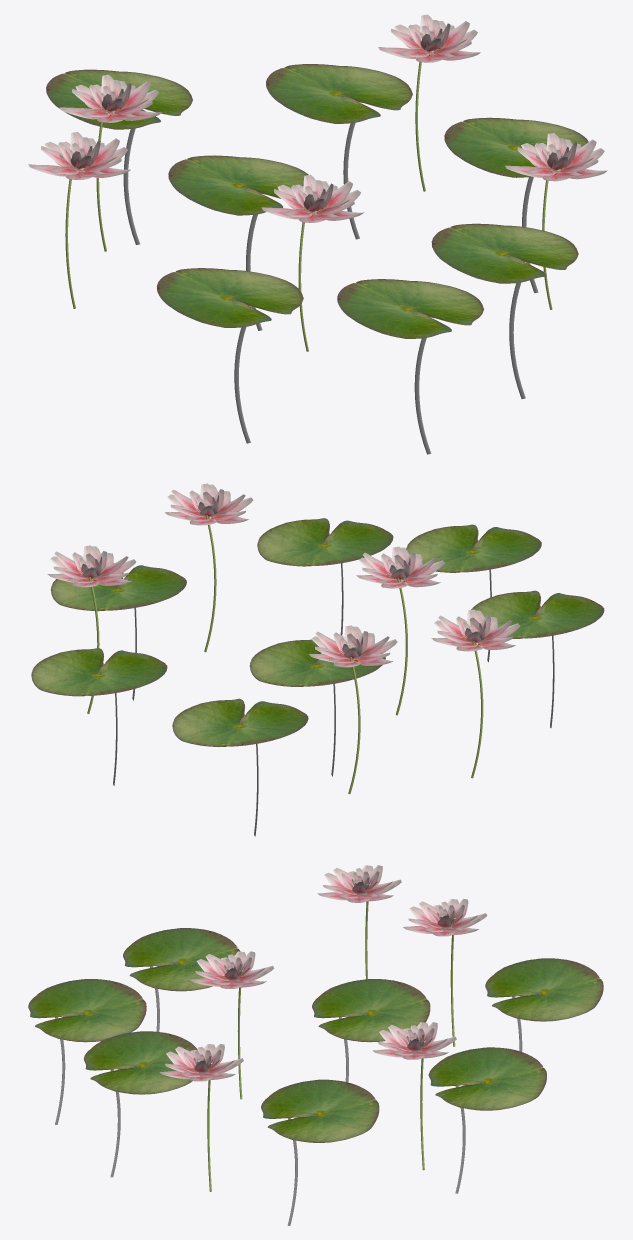
Rendered from Lilis.fbx.
The picture shows the model from 3 angles, top to bottom: view 1: azimuth 30°, elevation 25°; view 2: azimuth 150°, elevation 25°; view 3: azimuth 270°, elevation 25°; orthographic projection. The views are drawn at different scales.
Parts seen in each view (by area): view 1: Group_431, Group_435, Group_433, Group_436, Group_432, Group_434, Group_437, polySurface9, polySurface8, polySurface5, polySurface10, polySurface7; view 2: Group_436, Group_437, Group_433, Group_431, Group_435, Group_434, Group_432, polySurface9, polySurface10, polySurface5, polySurface7, polySurface8; view 3: Group_436, Group_434, Group_431, Group_437, Group_432, Group_433, Group_435, polySurface8, polySurface7, polySurface10, polySurface5, polySurface9.
Part boxes in pixels (bbox=[...]): Group_431: bbox=[337, 279, 484, 454]; Group_435: bbox=[156, 268, 303, 443]; Group_433: bbox=[431, 223, 578, 398]; Group_436: bbox=[266, 64, 412, 239]; Group_432: bbox=[168, 155, 308, 330]; Group_434: bbox=[444, 117, 588, 293]; Group_437: bbox=[46, 69, 192, 244]; polySurface9: bbox=[28, 132, 130, 308]; polySurface8: bbox=[378, 14, 480, 191]; polySurface5: bbox=[261, 174, 363, 351]; polySurface10: bbox=[59, 74, 161, 251]; polySurface7: bbox=[505, 133, 607, 309]; Group_436: bbox=[31, 648, 167, 785]; Group_437: bbox=[172, 698, 308, 836]; Group_433: bbox=[257, 518, 393, 635]; Group_431: bbox=[406, 524, 541, 662]; Group_435: bbox=[471, 590, 604, 727]; Group_434: bbox=[50, 563, 186, 700]; Group_432: bbox=[249, 639, 385, 776]; polySurface9: bbox=[431, 609, 519, 778]; polySurface10: bbox=[309, 625, 397, 794]; polySurface5: bbox=[356, 546, 444, 715]; polySurface7: bbox=[165, 483, 253, 652]; polySurface8: bbox=[47, 545, 136, 713]; Group_436: bbox=[428, 1047, 546, 1193]; Group_434: bbox=[261, 1079, 379, 1225]; Group_431: bbox=[28, 979, 146, 1124]; Group_437: bbox=[485, 958, 603, 1051]; Group_432: bbox=[312, 979, 430, 1082]; Group_433: bbox=[84, 1031, 197, 1177]; Group_435: bbox=[123, 928, 240, 1031]; polySurface8: bbox=[372, 1022, 456, 1170]; polySurface7: bbox=[159, 1044, 243, 1191]; polySurface10: bbox=[403, 898, 487, 1046]; polySurface5: bbox=[190, 951, 274, 1099]; polySurface9: bbox=[317, 865, 401, 979].
Bounding box in the file's own units: 1088 × 420 × 1262.
